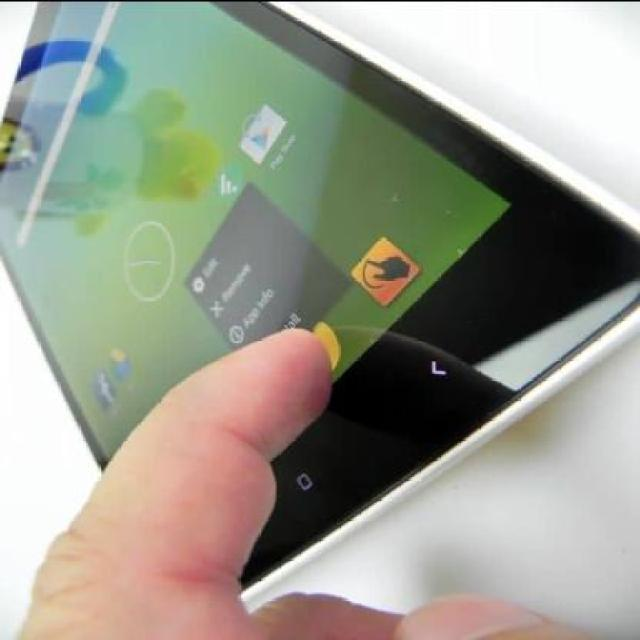tablet: (0, 0, 612, 612)
